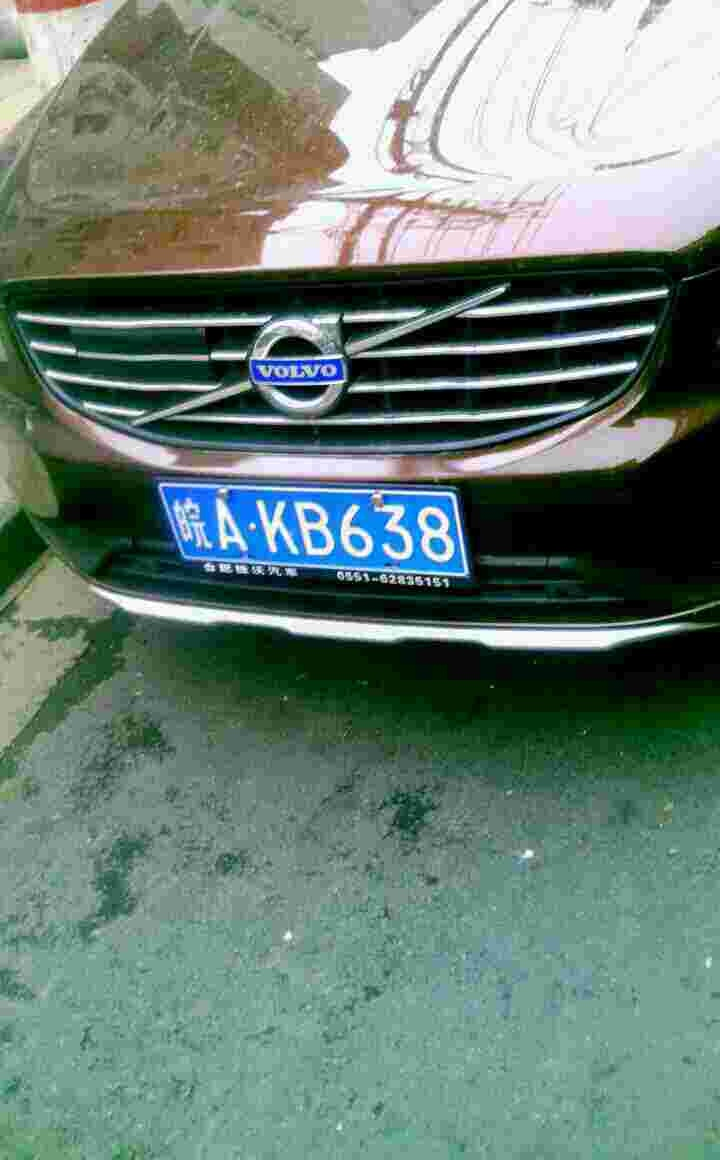license_plate: (152, 490, 461, 576)
